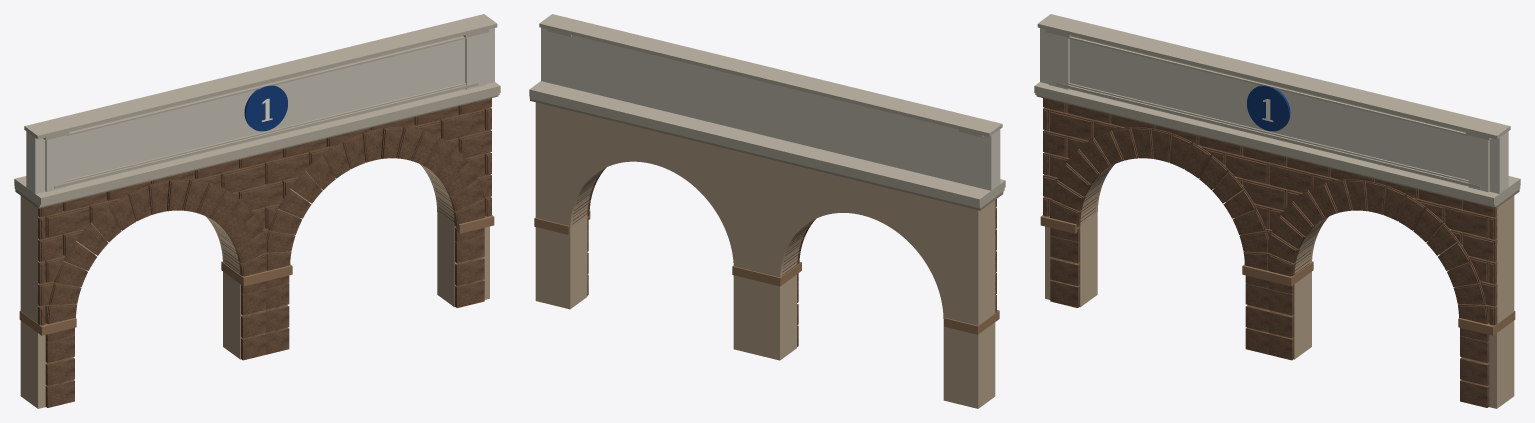
Rendered from changning-chartered-bank-garden-twin-arches-raw.glb.
3 renders of one model, left to right at view 1: azimuth 30°, elevation 25°; view 2: azimuth 150°, elevation 25°; view 3: azimuth 330°, elevation 25°, orthographic. The views are drawn at different scales.
Parts seen in each view (by area): view 1: 麦加利银行襄理住宅花园侧双石券与中柱; view 2: 麦加利银行襄理住宅花园侧双石券与中柱; view 3: 麦加利银行襄理住宅花园侧双石券与中柱.
Part boxes in pixels (x1,y1,x2,y2): 麦加利银行襄理住宅花园侧双石券与中柱: (14, 14, 500, 408); 麦加利银行襄理住宅花园侧双石券与中柱: (529, 14, 1005, 408); 麦加利银行襄理住宅花园侧双石券与中柱: (1034, 14, 1520, 408).
Bounding box in the file's own units: 6.61 × 3.8 × 0.659.
Materials: 9 (1 with a texture image).
